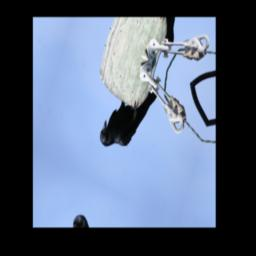Crow: (97, 69, 159, 165)
